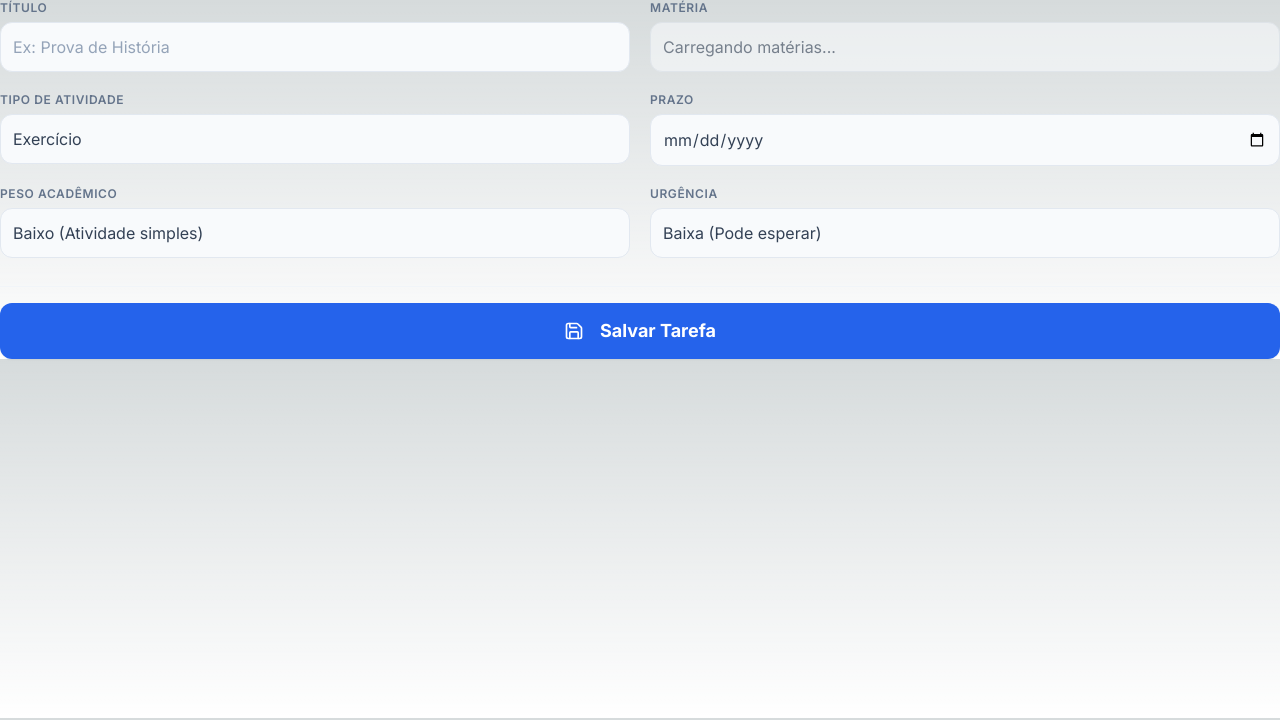
Test: TaskForm › shows error message on fetch failure
Fill fields to bypass HTML5 validation if any
Type "Fail Task" into the field labelled "Título" at (315, 47), box [0,22,630,72]
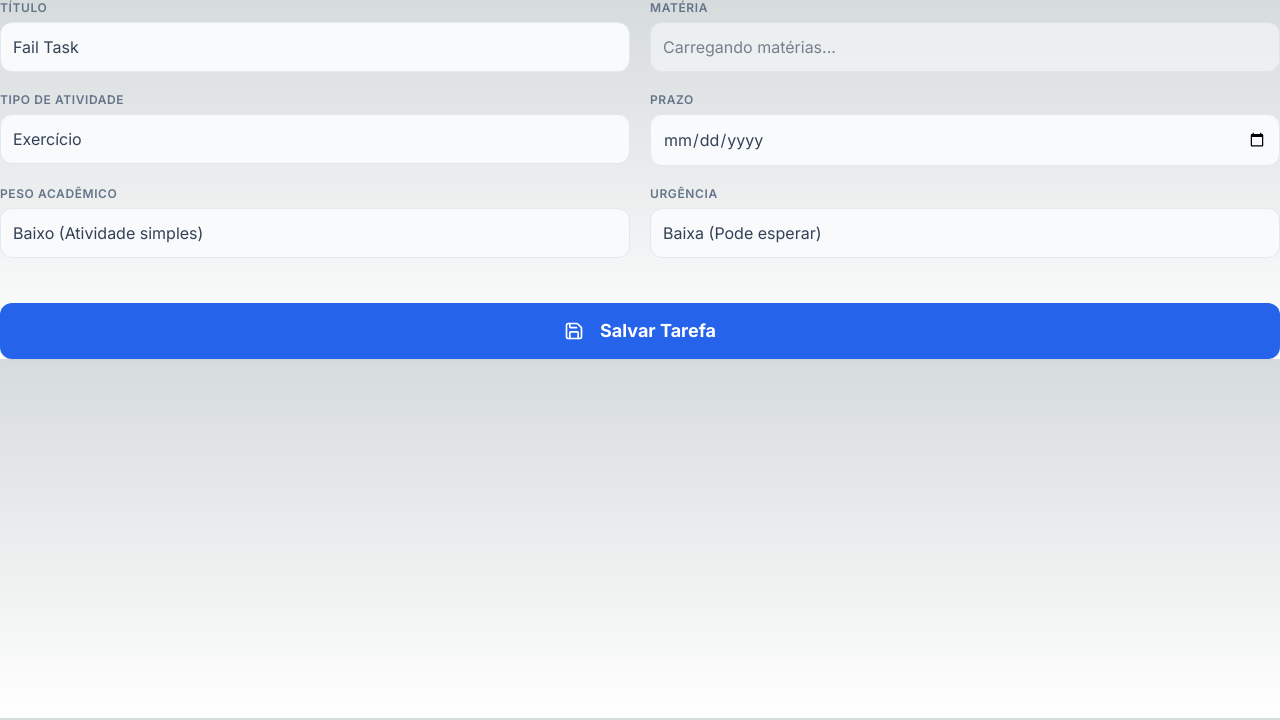
Select "Fail Subject" in the dropdown labelled "Matéria" at (965, 47), box [650,22,1279,72]
Type "2026-05-27" into the date field labelled "Prazo" at (965, 140), box [650,114,1279,166]
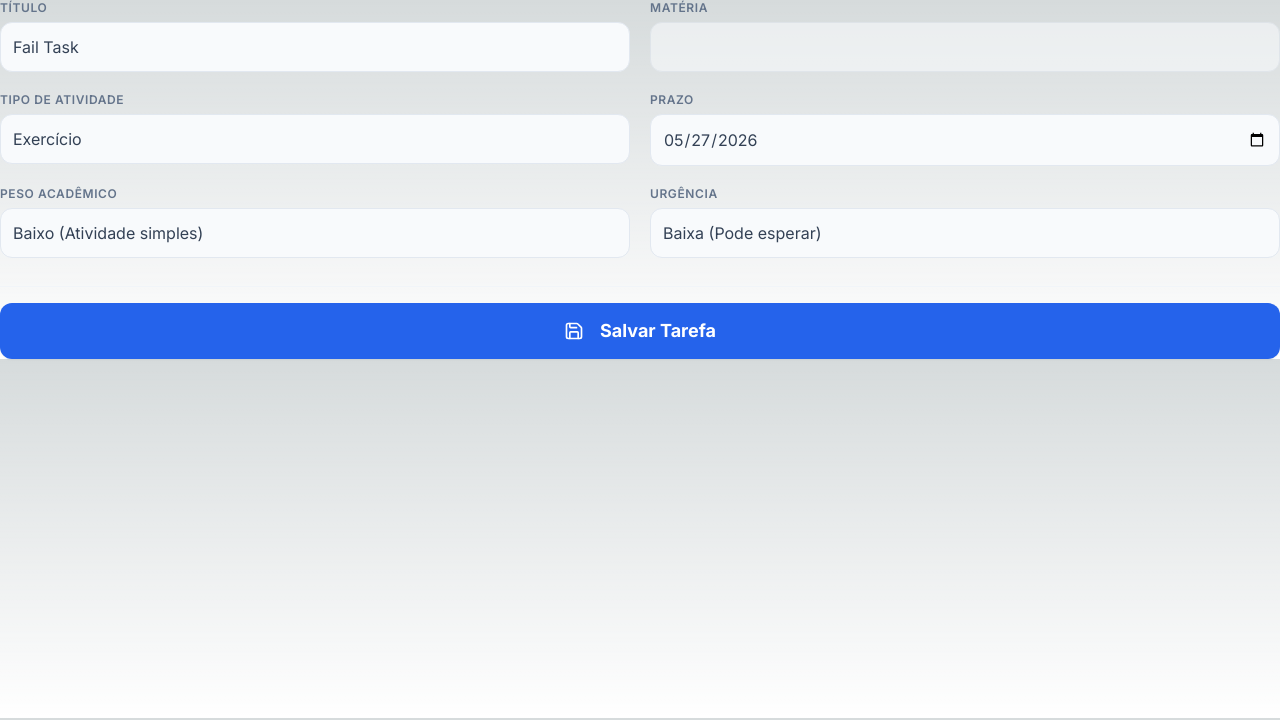
Click the button "Salvar Tarefa" at (640, 331), box [0,303,1279,359]
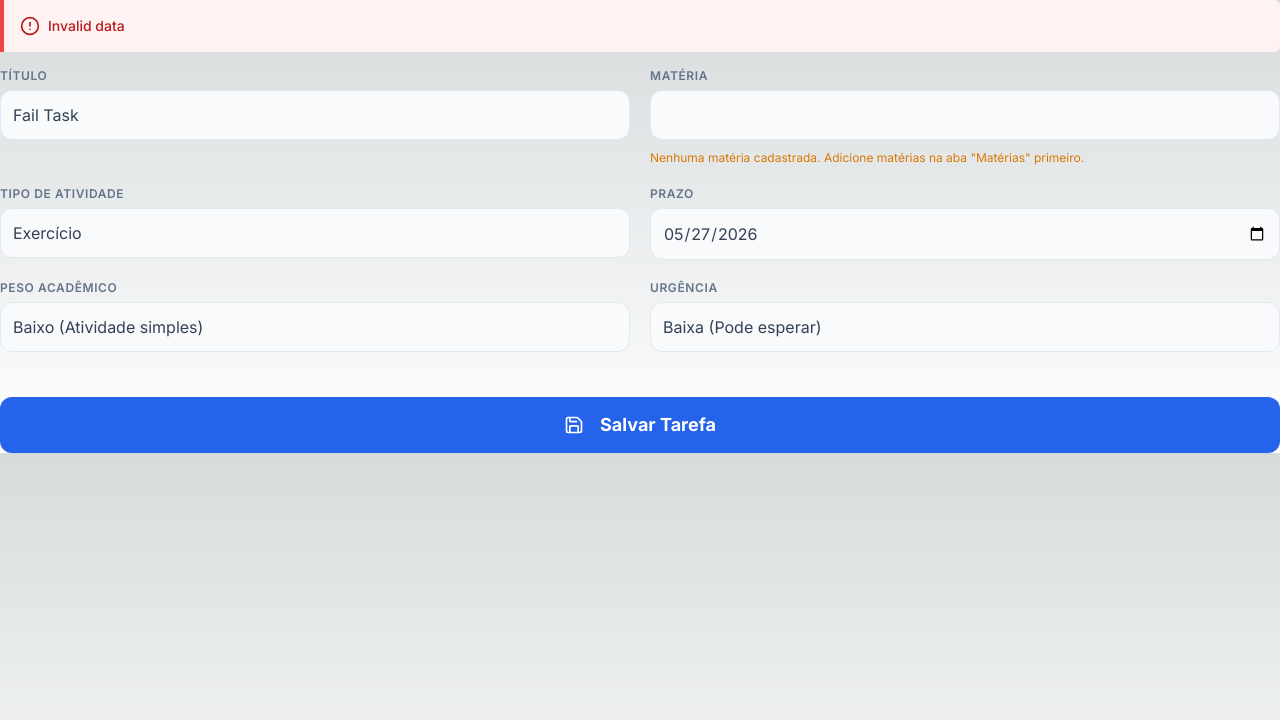
Now the text "Invalid data" is shown, box [0,0,1279,52]
